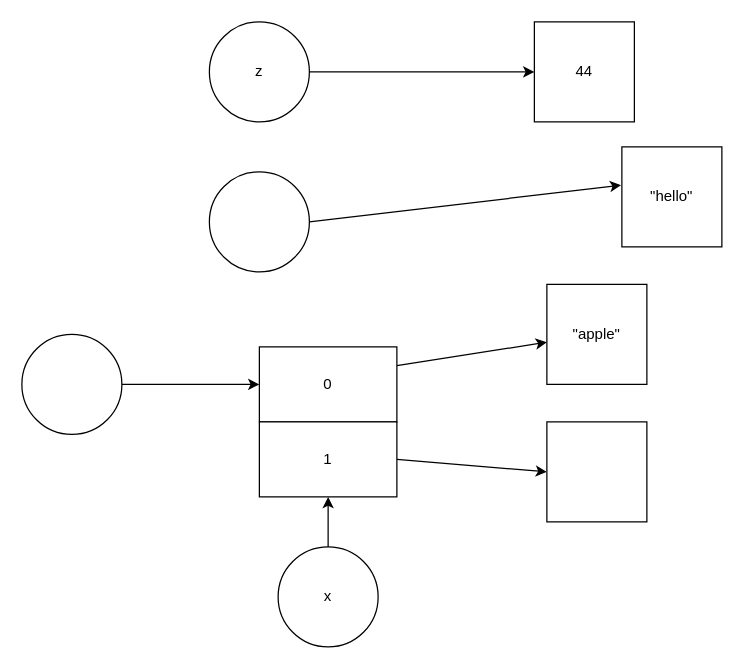
This 744x669 diagram has some shape labels left out. The shapes that lost their labels are listed below. From the top down, each one's centre as x and y in pixels, then its label:
(258,221): greeting
(71,383): fruits
(596,471): "pear"
